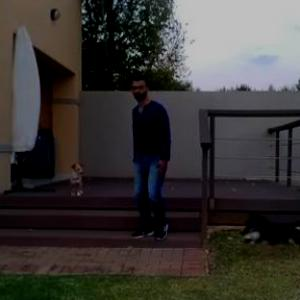follow: (130, 75, 176, 265)
